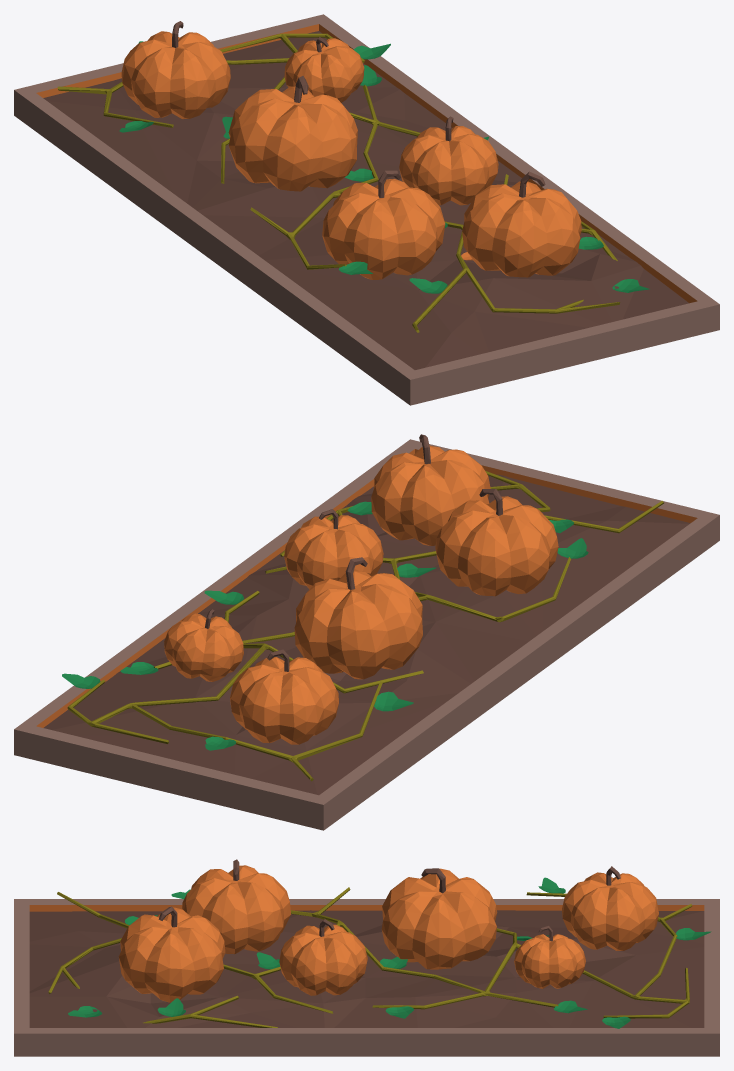
Rendered from Abobora.glb.
3 views of the same model, one above another, from view 1: azimuth 30°, elevation 25°; view 2: azimuth 150°, elevation 25°; view 3: azimuth 270°, elevation 25° (orthographic). The views are drawn at different scales.
Visible parts, largest first — view 1: Cube.009; view 2: Cube.009; view 3: Cube.009.
Part boxes in pixels (x1,y1,x2,y2): Cube.009: (14, 14, 719, 405); Cube.009: (14, 434, 719, 830); Cube.009: (14, 859, 719, 1056).
Bounding box in the file's own units: 5.91 × 2.19 × 12.7.
1 material, 1 textured.
